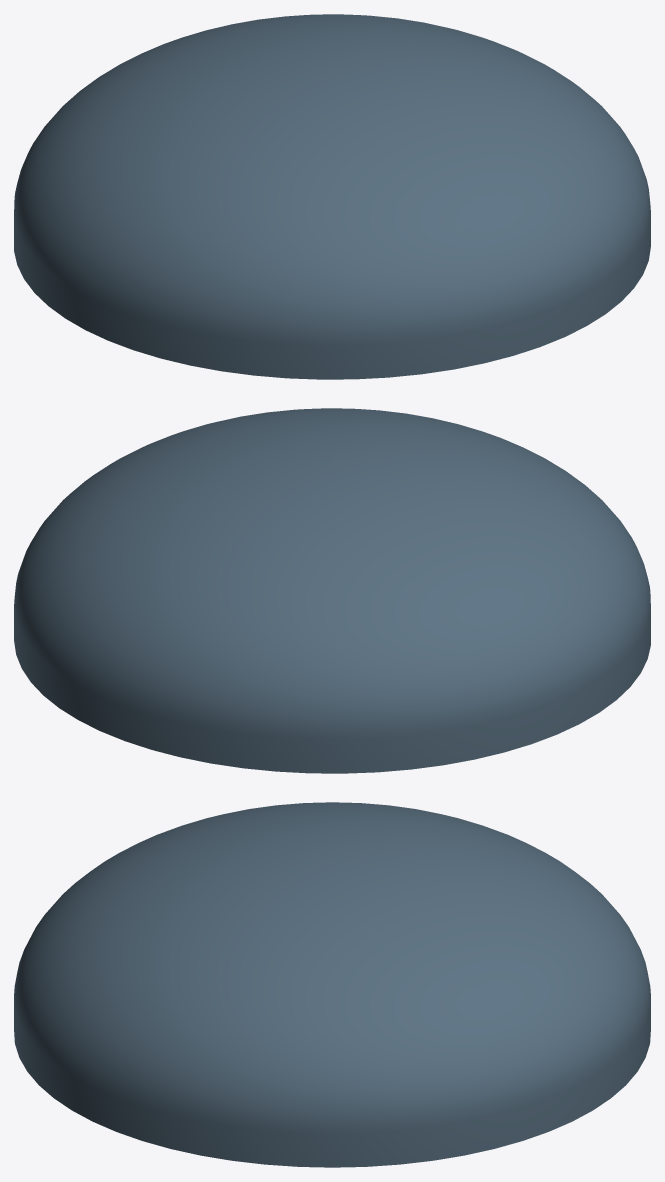
The model's file is dnishche-426x12.glb.
3 renders of one model, top to bottom at view 1: azimuth 30°, elevation 25°; view 2: azimuth 150°, elevation 25°; view 3: azimuth 270°, elevation 25°, orthographic.
Parts seen in each view (by area): view 1: Open CASCADE STEP translator 7.9 18; view 2: Open CASCADE STEP translator 7.9 18; view 3: Open CASCADE STEP translator 7.9 18.
Part boxes in pixels (x1=…): Open CASCADE STEP translator 7.9 18: x1=14, y1=14, x2=650, y2=379; Open CASCADE STEP translator 7.9 18: x1=14, y1=408, x2=650, y2=773; Open CASCADE STEP translator 7.9 18: x1=14, y1=802, x2=650, y2=1167.
Bounding box in the file's own units: 426 × 131 × 426.
